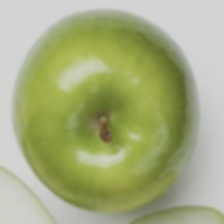apple: (11, 39, 187, 215)
